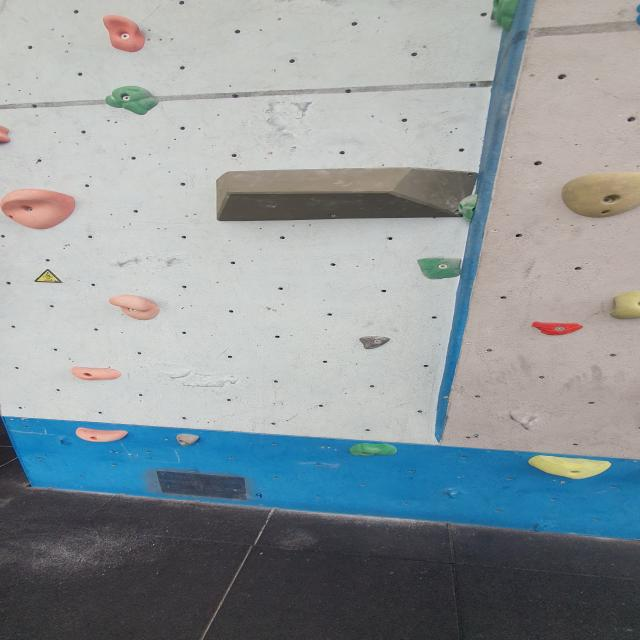Crimp: (520, 451, 616, 481), (105, 84, 163, 116), (72, 425, 130, 443), (347, 441, 402, 458), (531, 320, 586, 336), (458, 195, 480, 223)
Jug: (562, 170, 640, 217), (99, 13, 150, 53), (107, 293, 166, 323), (608, 289, 640, 320)
Pinch: (414, 256, 465, 280), (356, 337, 395, 351), (174, 433, 201, 446)
Sloper: (0, 190, 79, 232)
